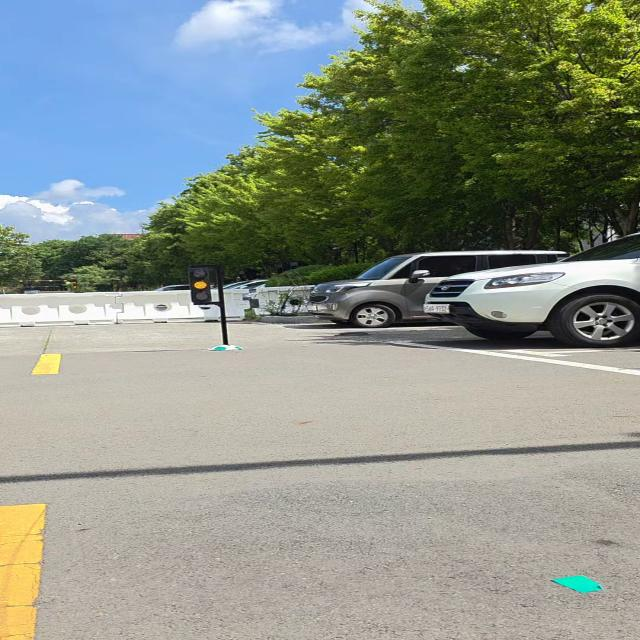yellow: (187, 267, 213, 303)
